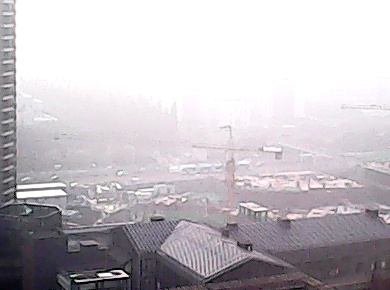car: (178, 158, 252, 176)
